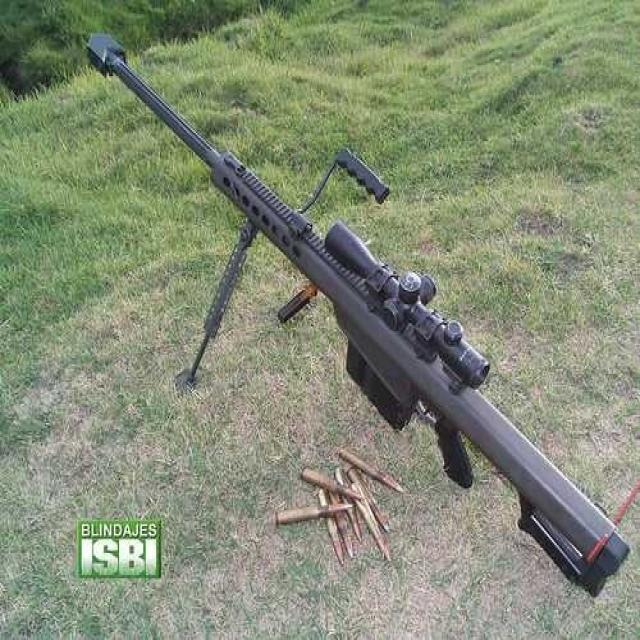weapon: (72, 20, 638, 602)
